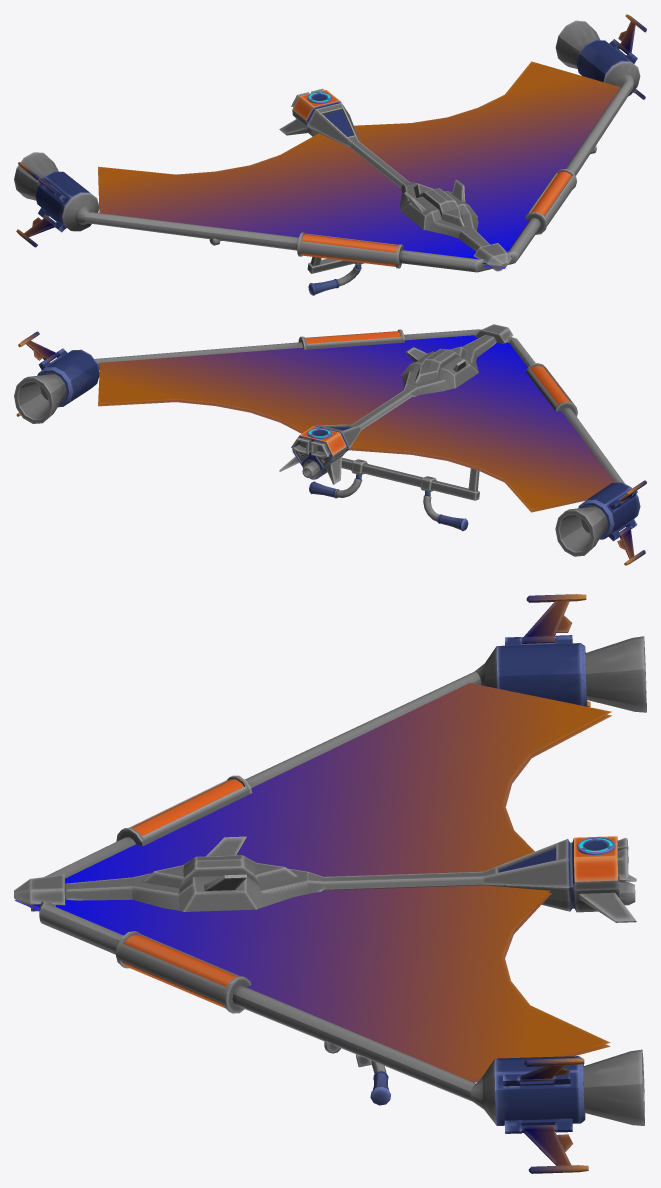
The picture shows the model from 3 angles, top to bottom: view 1: azimuth 30°, elevation 25°; view 2: azimuth 150°, elevation 25°; view 3: azimuth 270°, elevation 25°; orthographic projection. The views are drawn at different scales.
Visible parts, largest first — view 1: 1-_initialShadingGrou.001; view 2: 1-_initialShadingGrou.001; view 3: 1-_initialShadingGrou.001.
Boxes of the visible parts, x1,y1,x2,y2 form: 1-_initialShadingGrou.001: (14, 14, 646, 295); 1-_initialShadingGrou.001: (14, 324, 646, 565); 1-_initialShadingGrou.001: (14, 594, 646, 1173).
Size of the model in its own units: 5.87 by 1.3 by 3.36.
2 materials, 2 textured.
